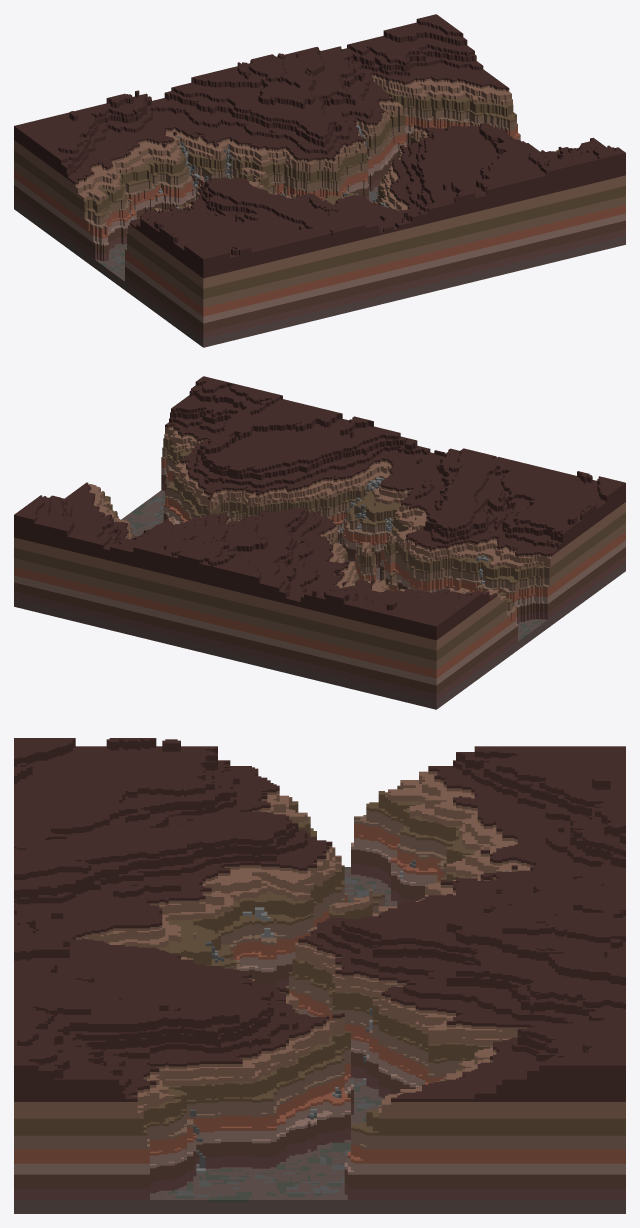
File: Level2.obj
3 views of the same model, one above another, from view 1: azimuth 30°, elevation 25°; view 2: azimuth 150°, elevation 25°; view 3: azimuth 270°, elevation 25° (orthographic). The views are drawn at different scales.
Visible parts, largest first — view 1: HeightMap2_V2; view 2: HeightMap2_V2; view 3: HeightMap2_V2.
Part boxes in pixels (box(x1,y1,x2,y2)): HeightMap2_V2: box(14, 14, 625, 347); HeightMap2_V2: box(14, 376, 625, 709); HeightMap2_V2: box(14, 738, 625, 1213).
Bounding box in the file's own units: 25.5 × 5.3 × 19.8.
Materials: 1 (1 with a texture image).
